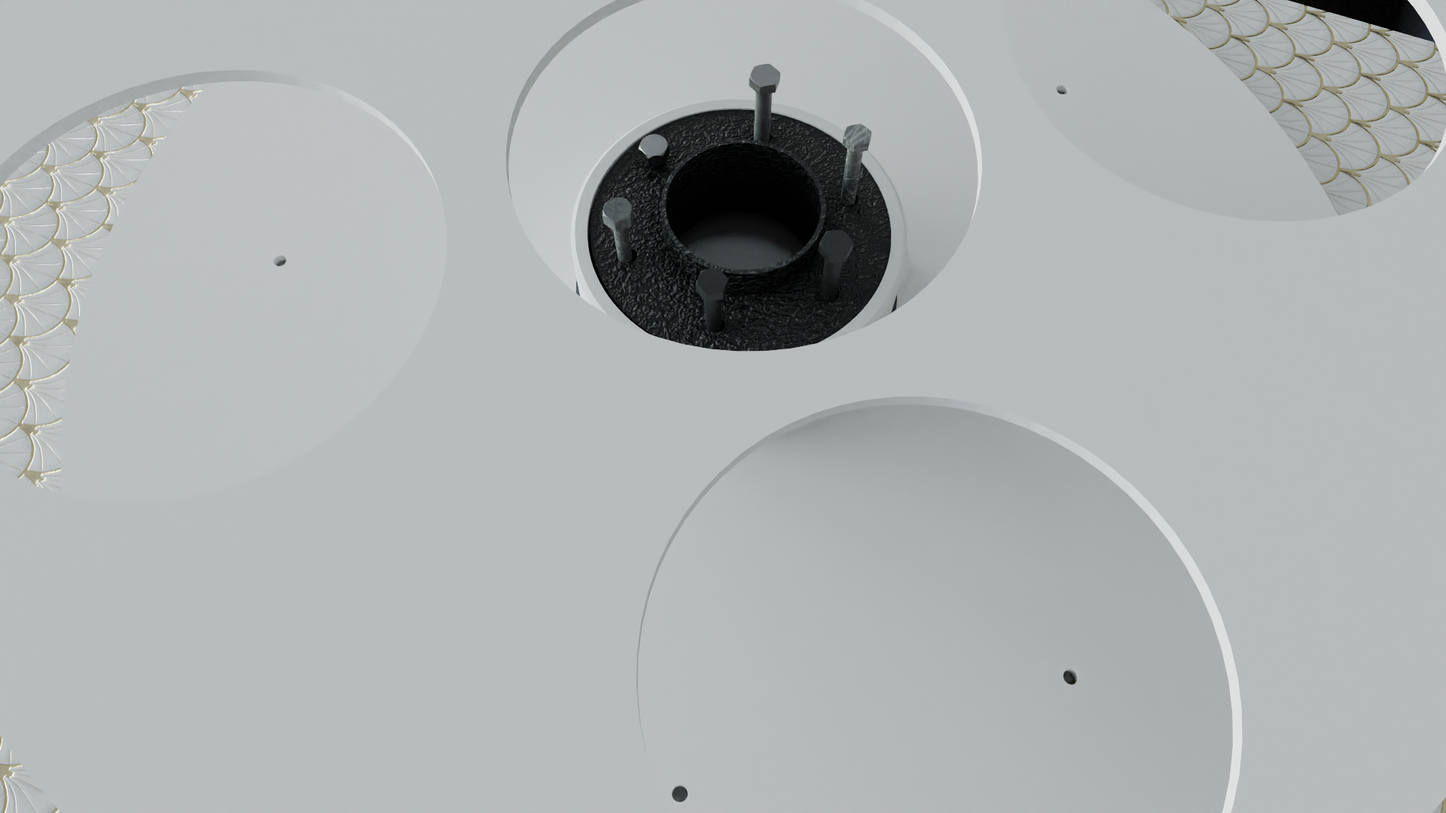bolt: (819, 230, 853, 256), (696, 268, 728, 295), (602, 197, 633, 224), (639, 134, 670, 159), (749, 64, 780, 87), (844, 123, 872, 147)
